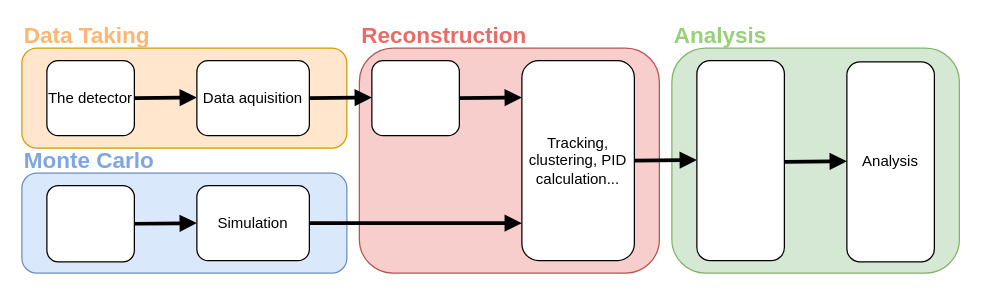
Image size: 981x295. Some labels were removed from this diagram. The centre of each missing label's shape, as x and y in pixels:
Calibration: [415,97]
Generated events: [90,223]
Skimming: [740,160]
